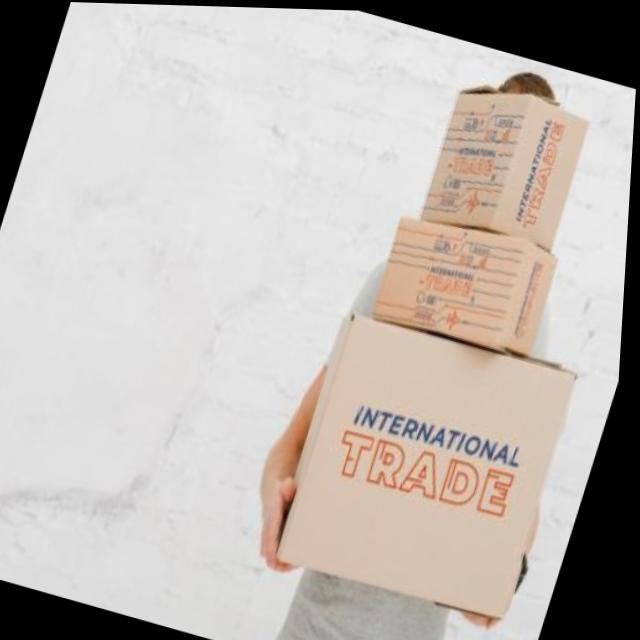box: (255, 301, 604, 640), (388, 49, 620, 279), (363, 186, 580, 354)
